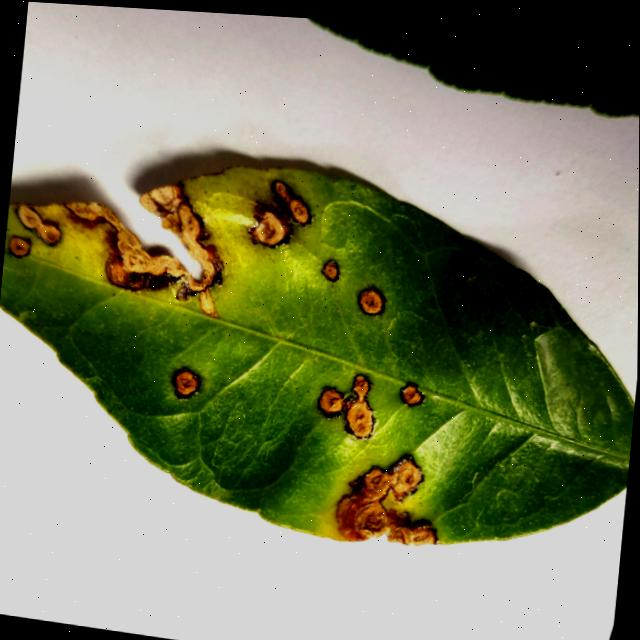antracnose: (0, 165, 634, 542), (64, 184, 220, 300), (335, 454, 435, 543), (247, 180, 308, 245), (338, 374, 373, 437), (16, 203, 60, 243), (172, 367, 198, 397), (358, 287, 383, 313), (317, 387, 337, 415), (400, 382, 421, 404), (8, 234, 28, 255), (321, 259, 338, 280)
